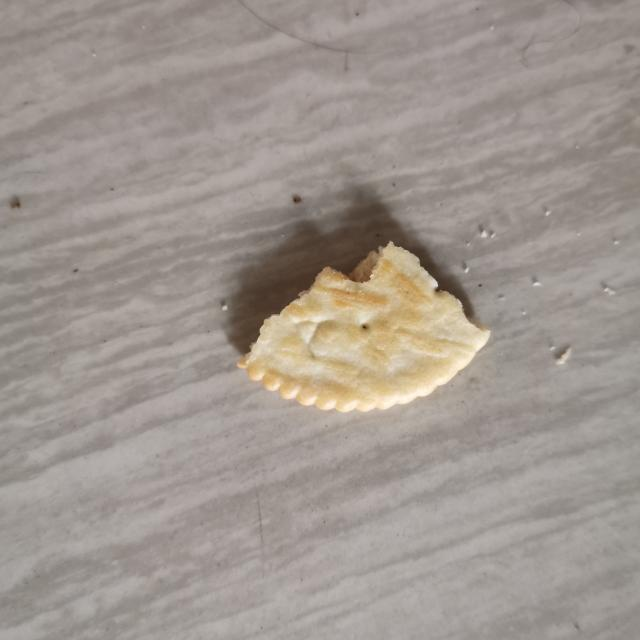Broken: (236, 239, 491, 413)
